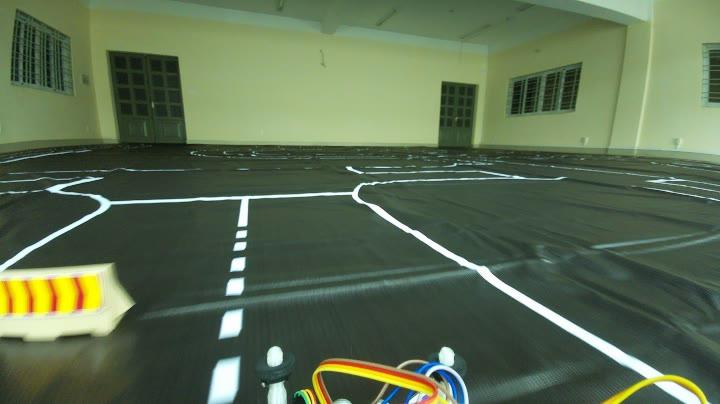roadblock: (0, 264, 123, 338)
